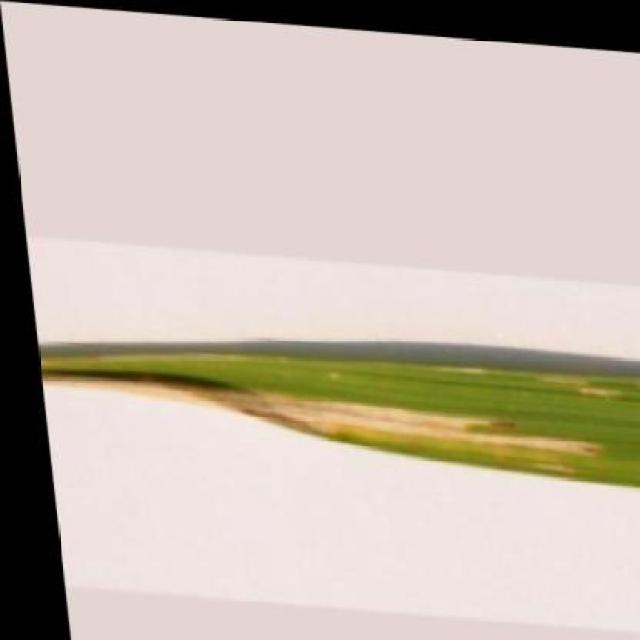Brown_Spot: (27, 316, 640, 489)
